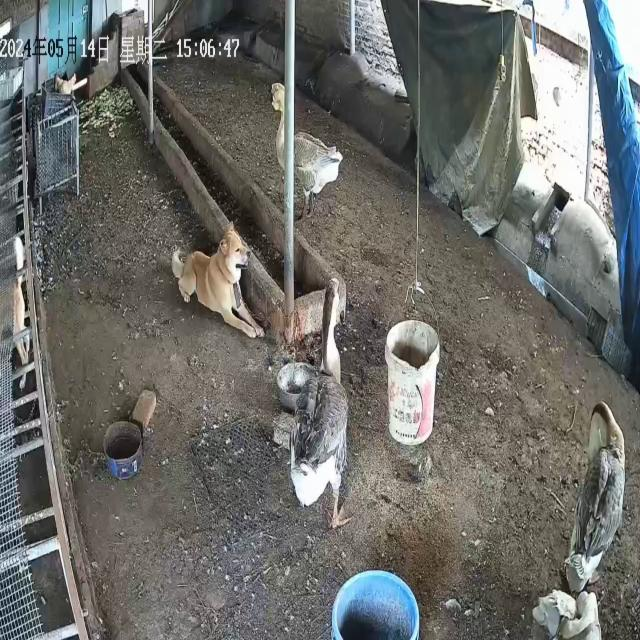dog: (172, 221, 266, 340)
